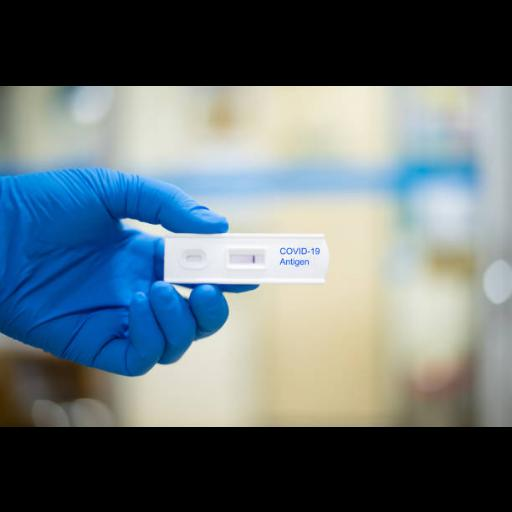Neg: (166, 233, 328, 281)
